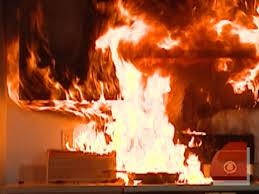fire: (1, 8, 219, 169)
